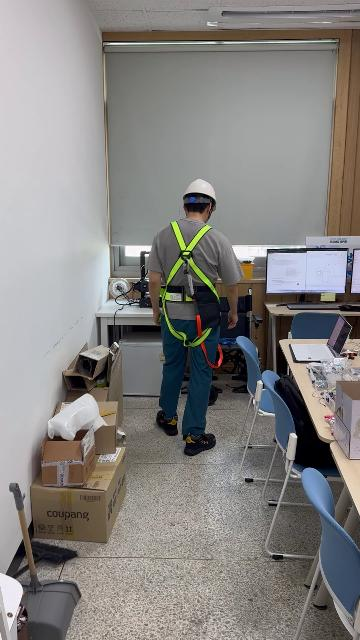helmet_worn: (182, 178, 217, 215)
shoe_worn: (184, 431, 215, 456), (156, 410, 178, 436)
vest_worn: (157, 223, 225, 355)
